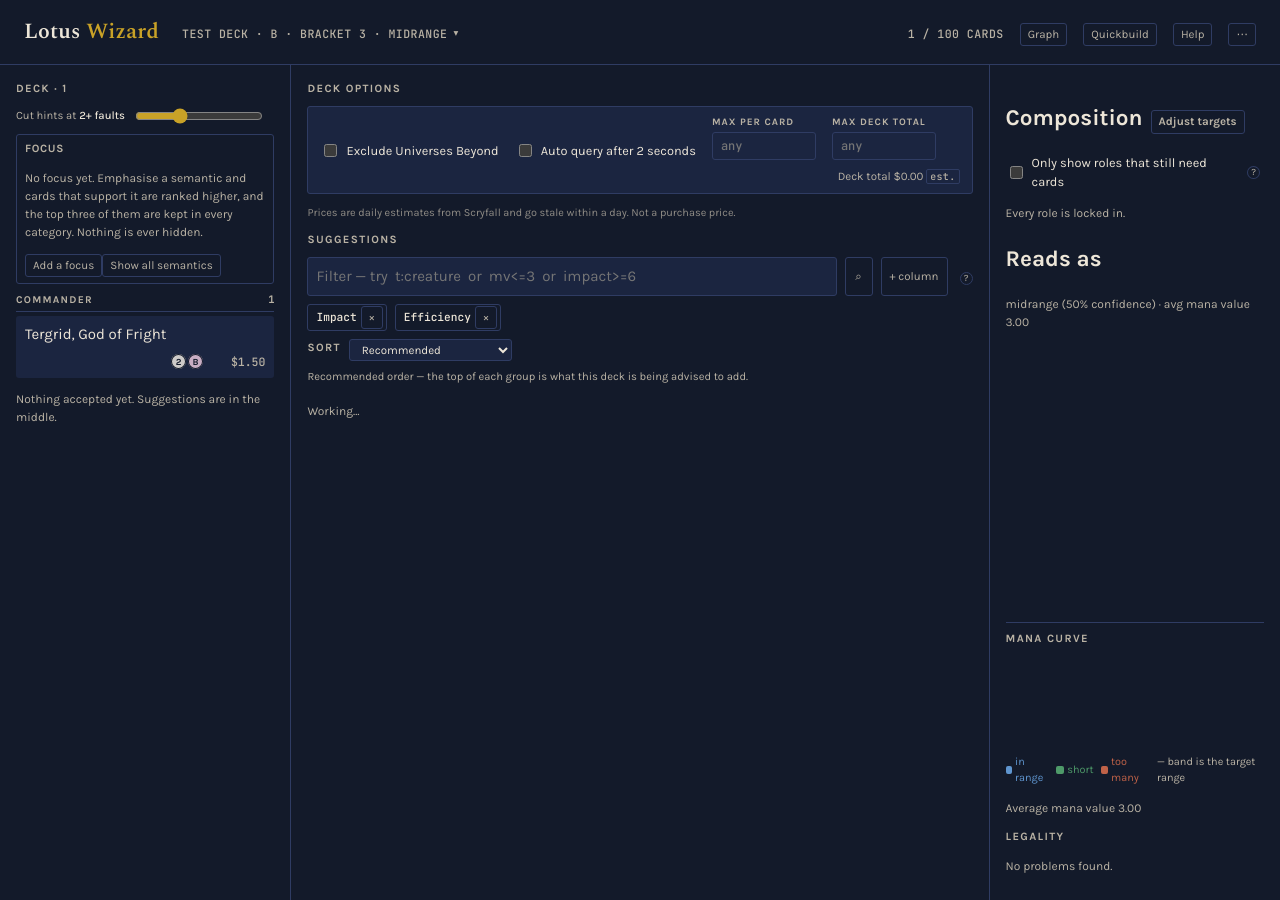
Test: the whole vocabulary, in categories › files a curated behaviour under Mechanics
This screenshot has width=1280, height=900.
Expected: the button "Tergrid, God of Fright" is shown, 25,323 -> 266,345
Step 1. Click the button "Show all semantics" → x=162, y=266, box 102,254 -> 221,277
(page scrolled)
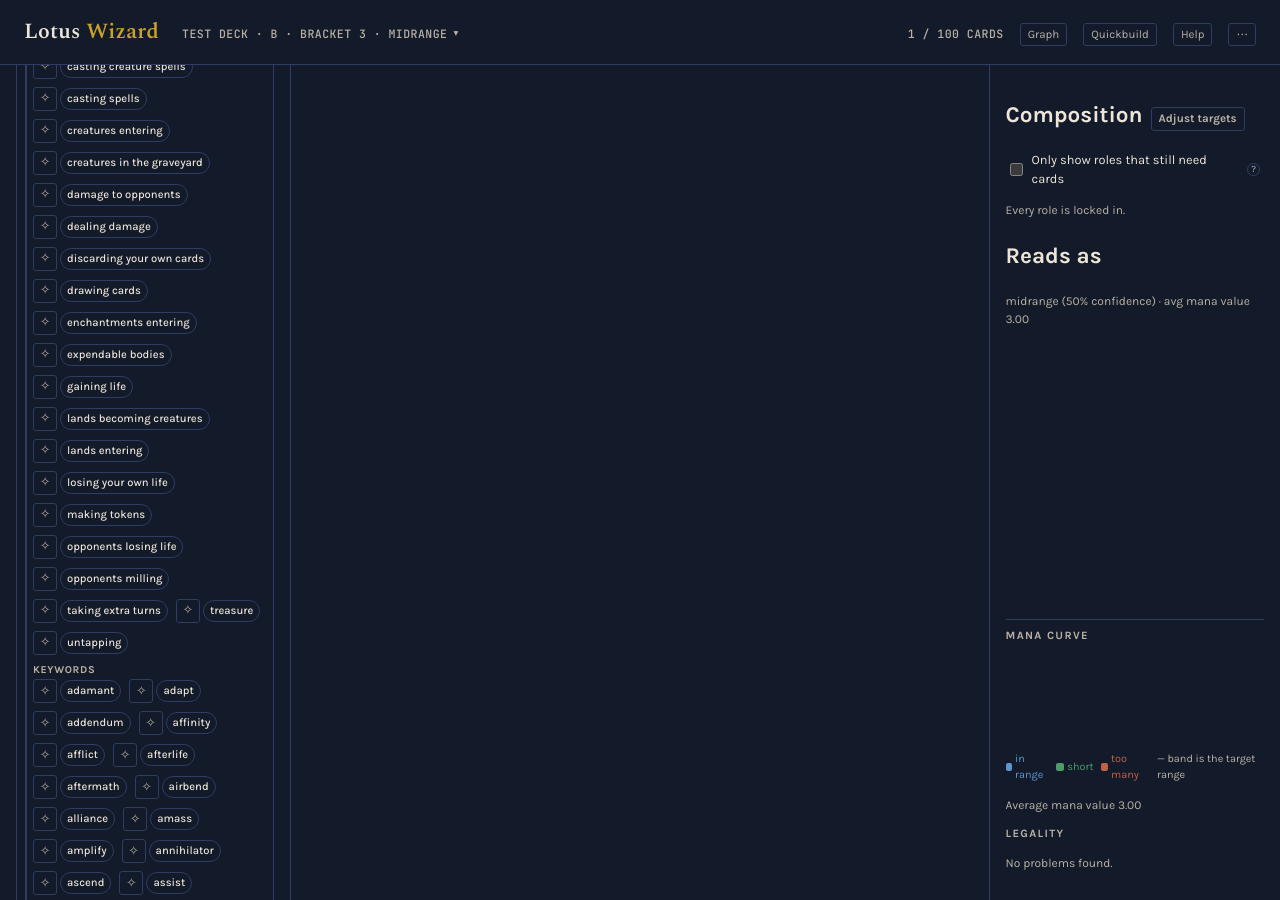
Result: the button named "Emphasise lands entering" is shown at 33,439 -> 57,463
